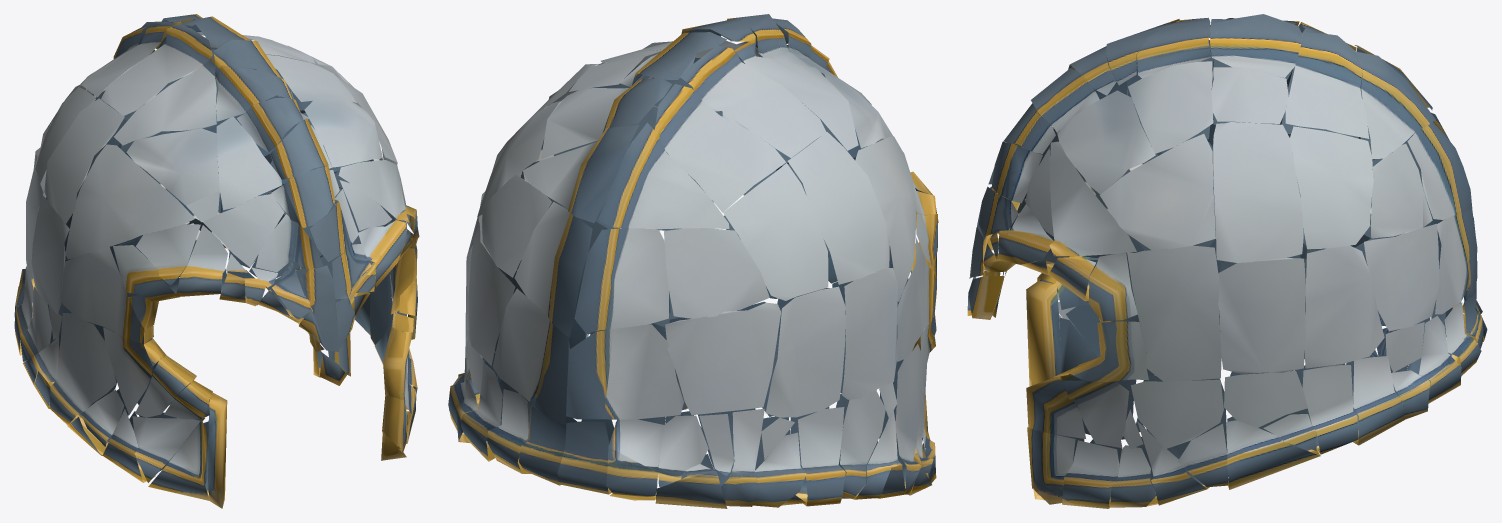
The model's file is dawnwarden-helmet-v1-lod.glb.
3 renders of one model, left to right at view 1: azimuth 30°, elevation 25°; view 2: azimuth 150°, elevation 25°; view 3: azimuth 270°, elevation 25°, orthographic. The views are drawn at different scales.
Visible parts, largest first — view 1: Mesh_0; view 2: Mesh_0; view 3: Mesh_0.
Part boxes in pixels (box(x1,y1,x2,y2)): Mesh_0: box(14, 14, 419, 508); Mesh_0: box(448, 14, 938, 508); Mesh_0: box(967, 14, 1487, 508).
Bounding box in the file's own units: 1.62 × 1.74 × 1.9.
1 material, 1 textured.
